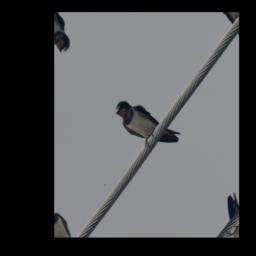Swallow: (111, 82, 183, 167)
